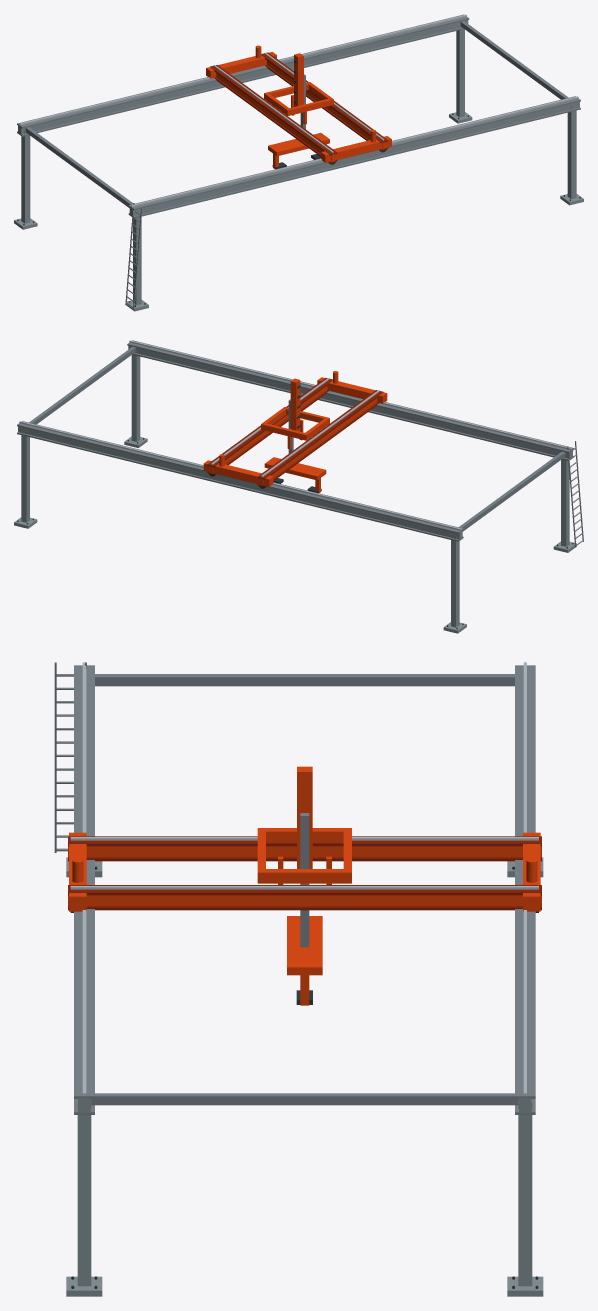
File: storage_gantry.dae
The picture shows the model from 3 angles, top to bottom: view 1: azimuth 30°, elevation 25°; view 2: azimuth 150°, elevation 25°; view 3: azimuth 270°, elevation 25°; orthographic projection. The views are drawn at different scales.
Visible parts, largest first — view 1: storage_gantry; view 2: storage_gantry; view 3: storage_gantry.
Part boxes in pixels (x1=…): storage_gantry: x1=14, y1=14, x2=583, y2=311; storage_gantry: x1=14, y1=340, x2=583, y2=633; storage_gantry: x1=54, y1=662, x2=543, y2=1296.
Size of the model in its own units: 18.77 by 8.86 by 6.22.
